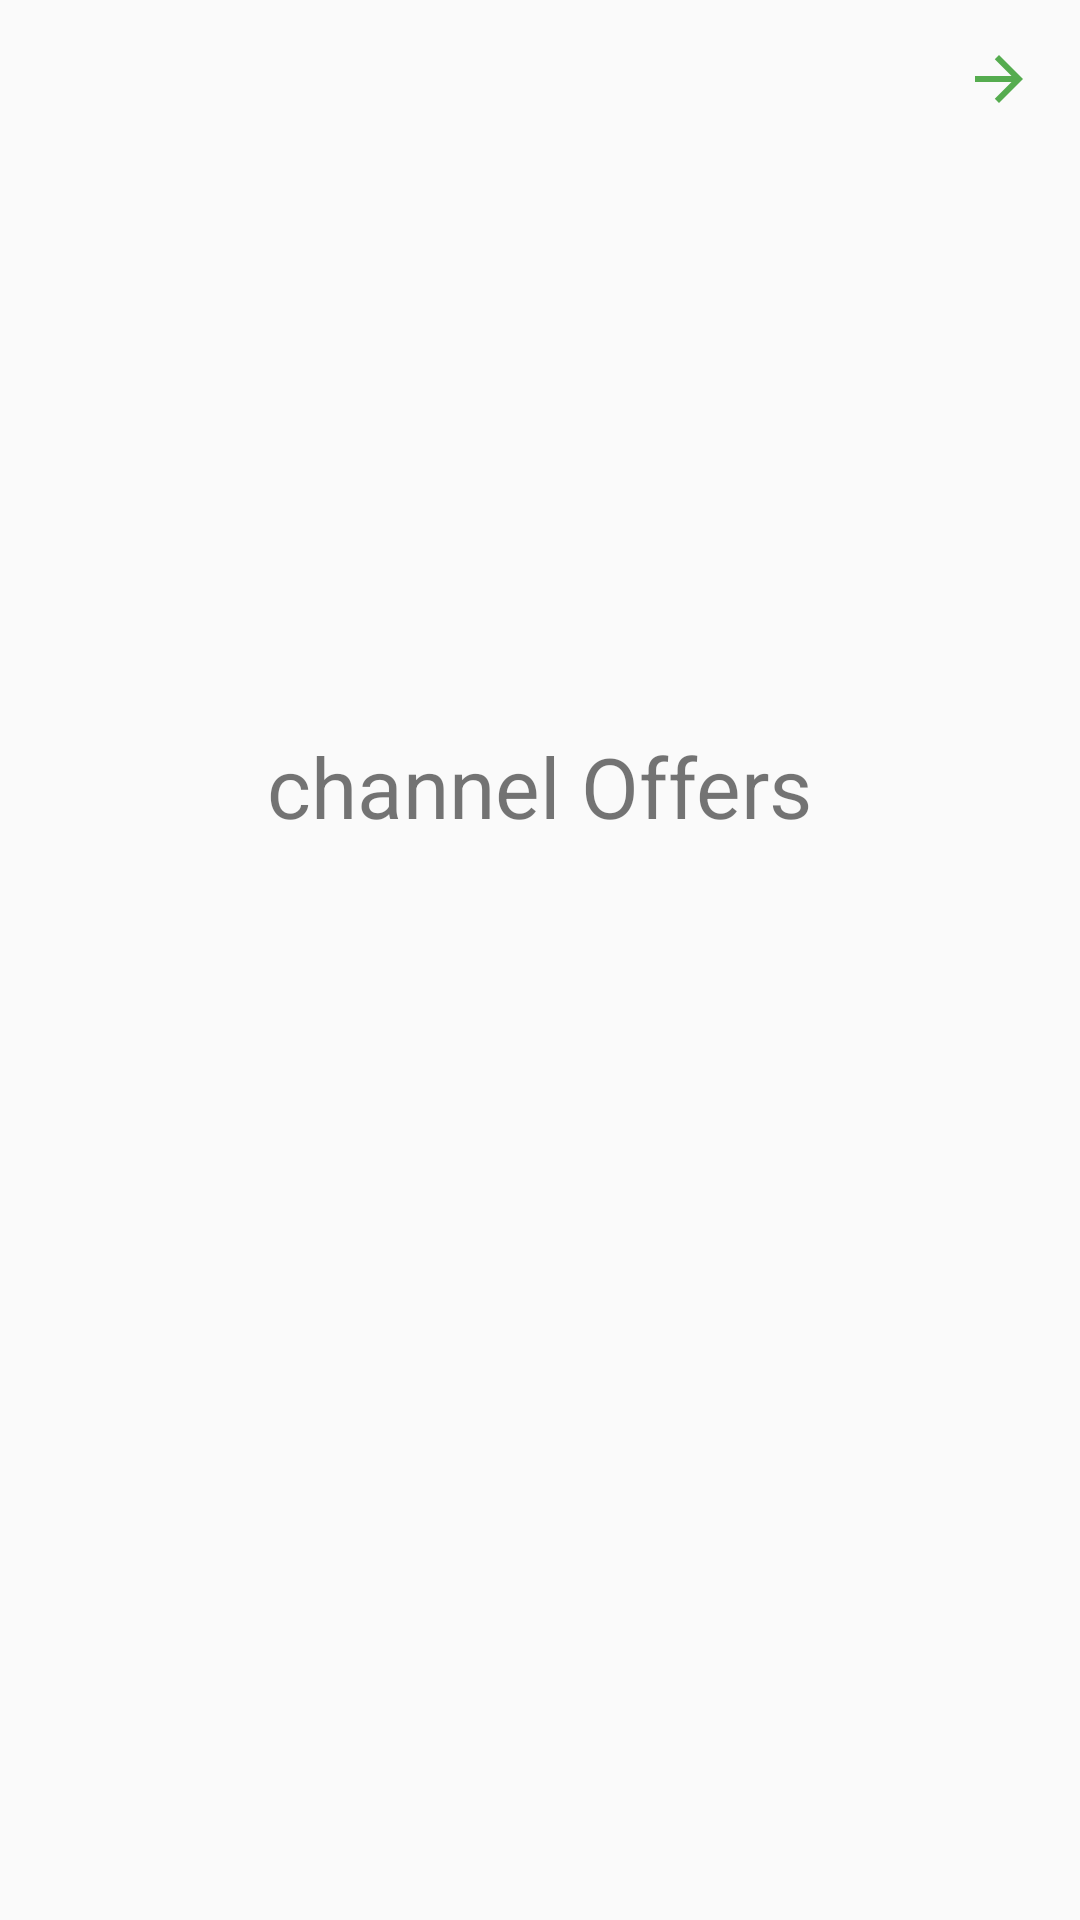

Where icons sit on this 1080*1920 app screen, as (x1, y1, x2, y2):
arrow forward: (975, 55, 1023, 103)
